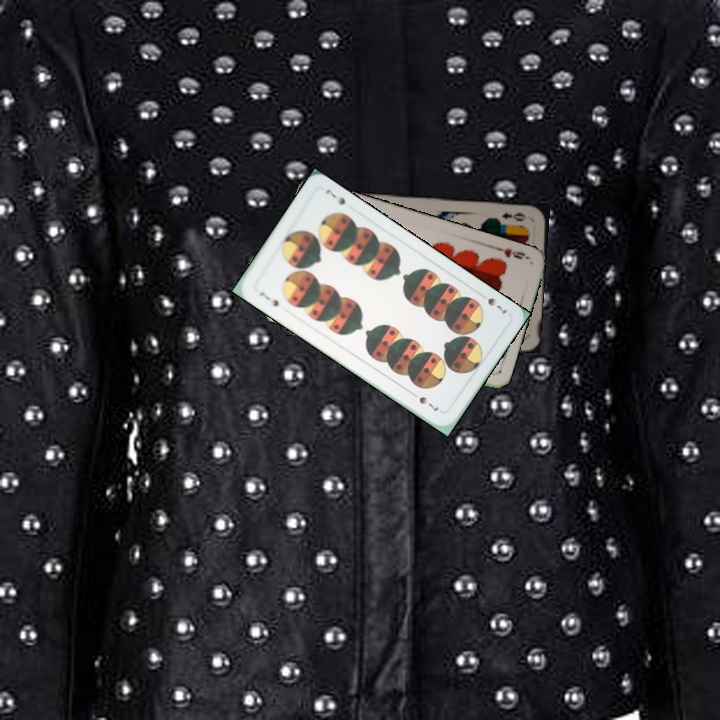EO: (498, 208, 529, 224)
H9: (491, 243, 531, 262)
S7: (483, 293, 510, 316), (255, 288, 282, 309)
